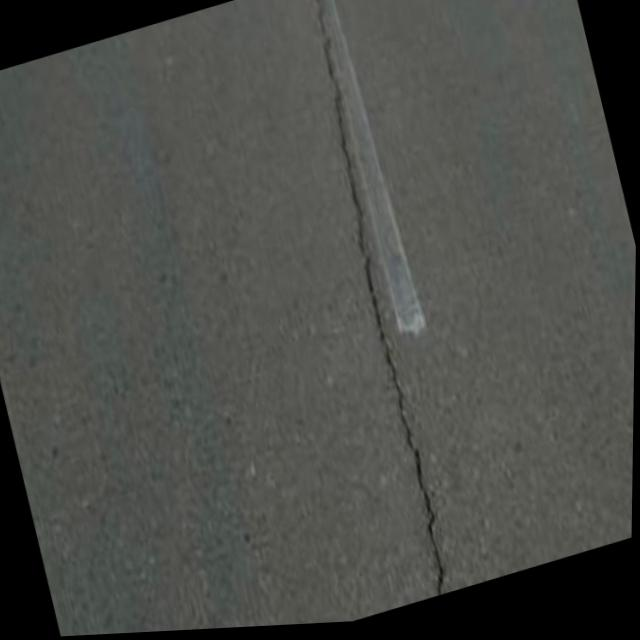Crack: (274, 0, 507, 610)
